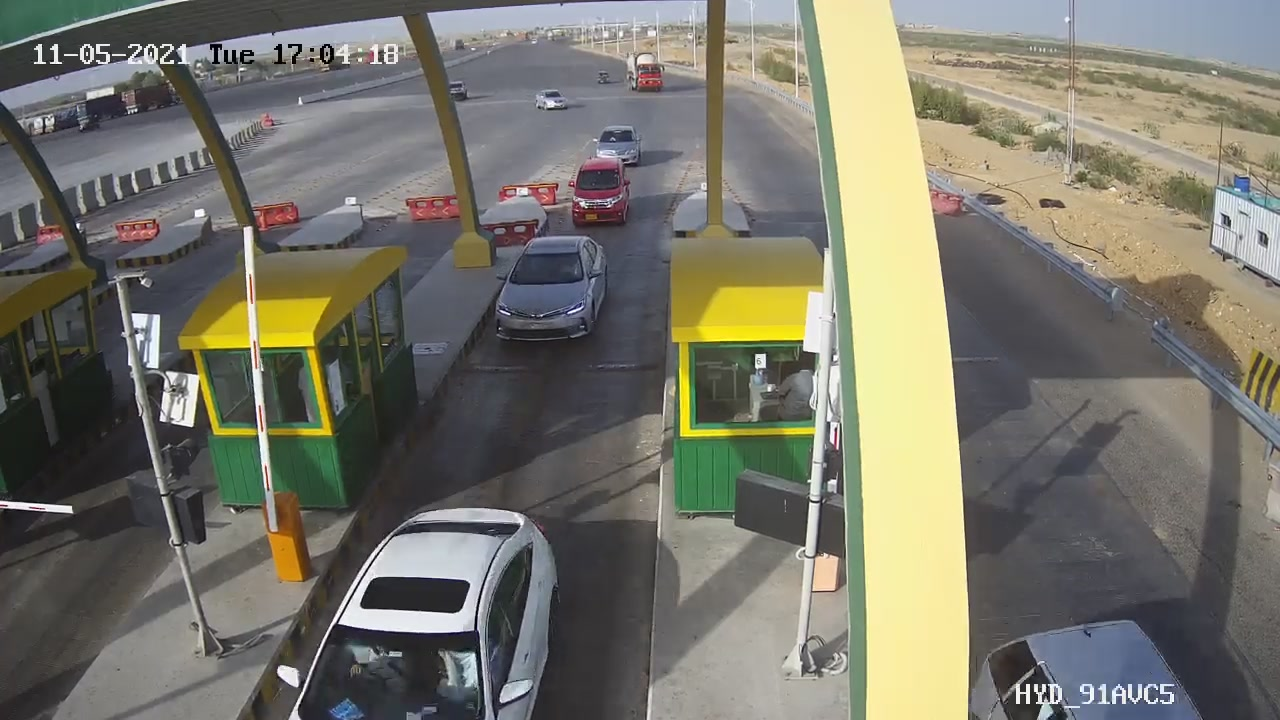F1: (474, 224, 626, 359)
